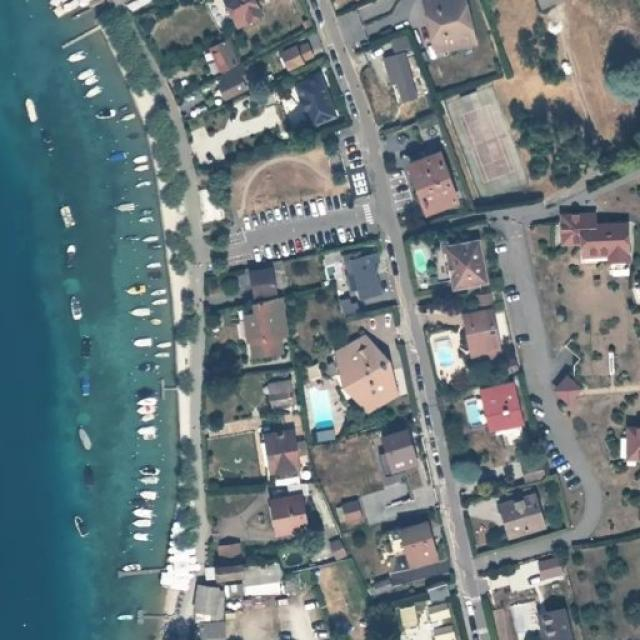maison: (488, 563, 572, 640), (414, 1, 483, 61), (228, 304, 288, 362), (473, 489, 544, 538), (410, 152, 462, 218), (288, 77, 340, 131), (369, 51, 421, 104), (342, 243, 386, 304), (213, 556, 285, 592), (440, 240, 492, 287), (487, 374, 523, 434), (466, 306, 502, 362), (209, 0, 263, 34), (262, 428, 301, 475), (194, 583, 225, 638), (278, 35, 322, 73), (244, 260, 282, 302), (402, 518, 436, 563), (272, 490, 306, 528), (552, 369, 584, 408), (385, 432, 415, 472), (199, 42, 236, 72), (266, 377, 294, 408), (209, 72, 240, 97), (338, 495, 361, 516)
piscine: (298, 376, 342, 442), (458, 386, 486, 438), (427, 332, 458, 372), (406, 240, 434, 284)
usine: (394, 591, 464, 640)
villa: (302, 318, 399, 436), (553, 203, 635, 275)
